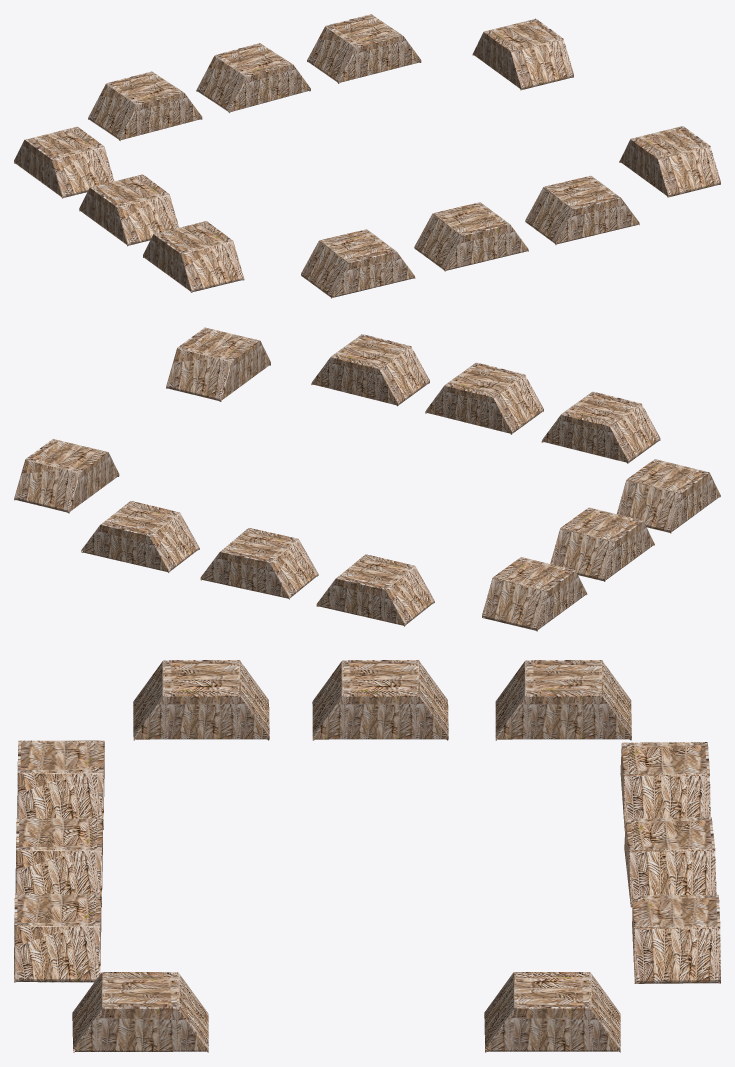
File: TechosChozas.obj
3 views of the same model, one above another, from view 1: azimuth 30°, elevation 25°; view 2: azimuth 150°, elevation 25°; view 3: azimuth 270°, elevation 25° (orthographic). The views are drawn at different scales.
Visible parts, largest first — view 1: Cubo.001_Material.019; view 2: Cubo.001_Material.019; view 3: Cubo.001_Material.019.
Part boxes in pixels (x1=…): Cubo.001_Material.019: x1=14, y1=14, x2=720, y2=298; Cubo.001_Material.019: x1=14, y1=327, x2=720, y2=631; Cubo.001_Material.019: x1=14, y1=660, x2=720, y2=1052.
Bounding box in the file's own units: 50.46 × 3.03 × 43.25.
Materials: 1 (1 with a texture image).
